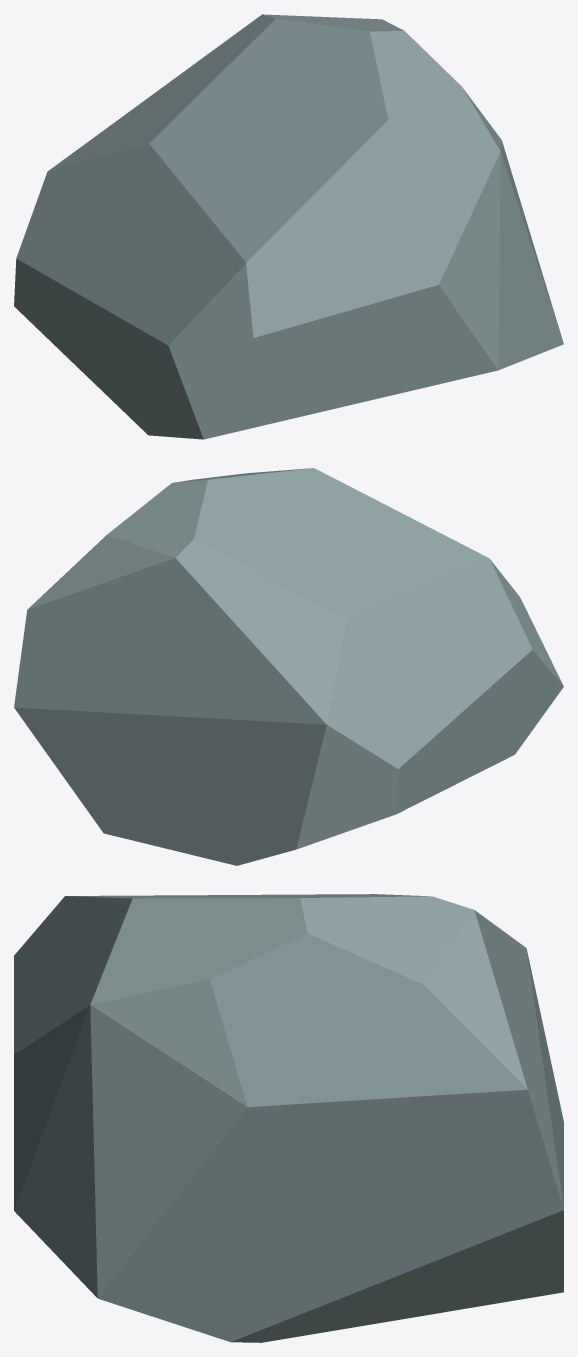
File: SM_Rock_A.fbx
The picture shows the model from 3 angles, top to bottom: view 1: azimuth 30°, elevation 25°; view 2: azimuth 150°, elevation 25°; view 3: azimuth 270°, elevation 25°; orthographic projection. The views are drawn at different scales.
Visible parts, largest first — view 1: Cube; view 2: Cube; view 3: Cube.
Boxes of the visible parts, x1=… form: Cube: x1=14, y1=14, x2=563, y2=439; Cube: x1=14, y1=468, x2=563, y2=865; Cube: x1=14, y1=894, x2=563, y2=1342.
Size of the model in its own units: 57.24 by 44.69 by 57.24.
